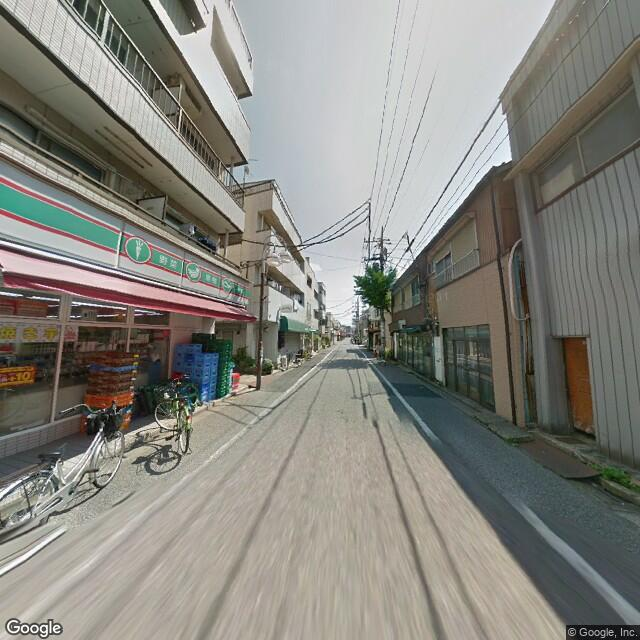lawson: (1, 162, 249, 311)
